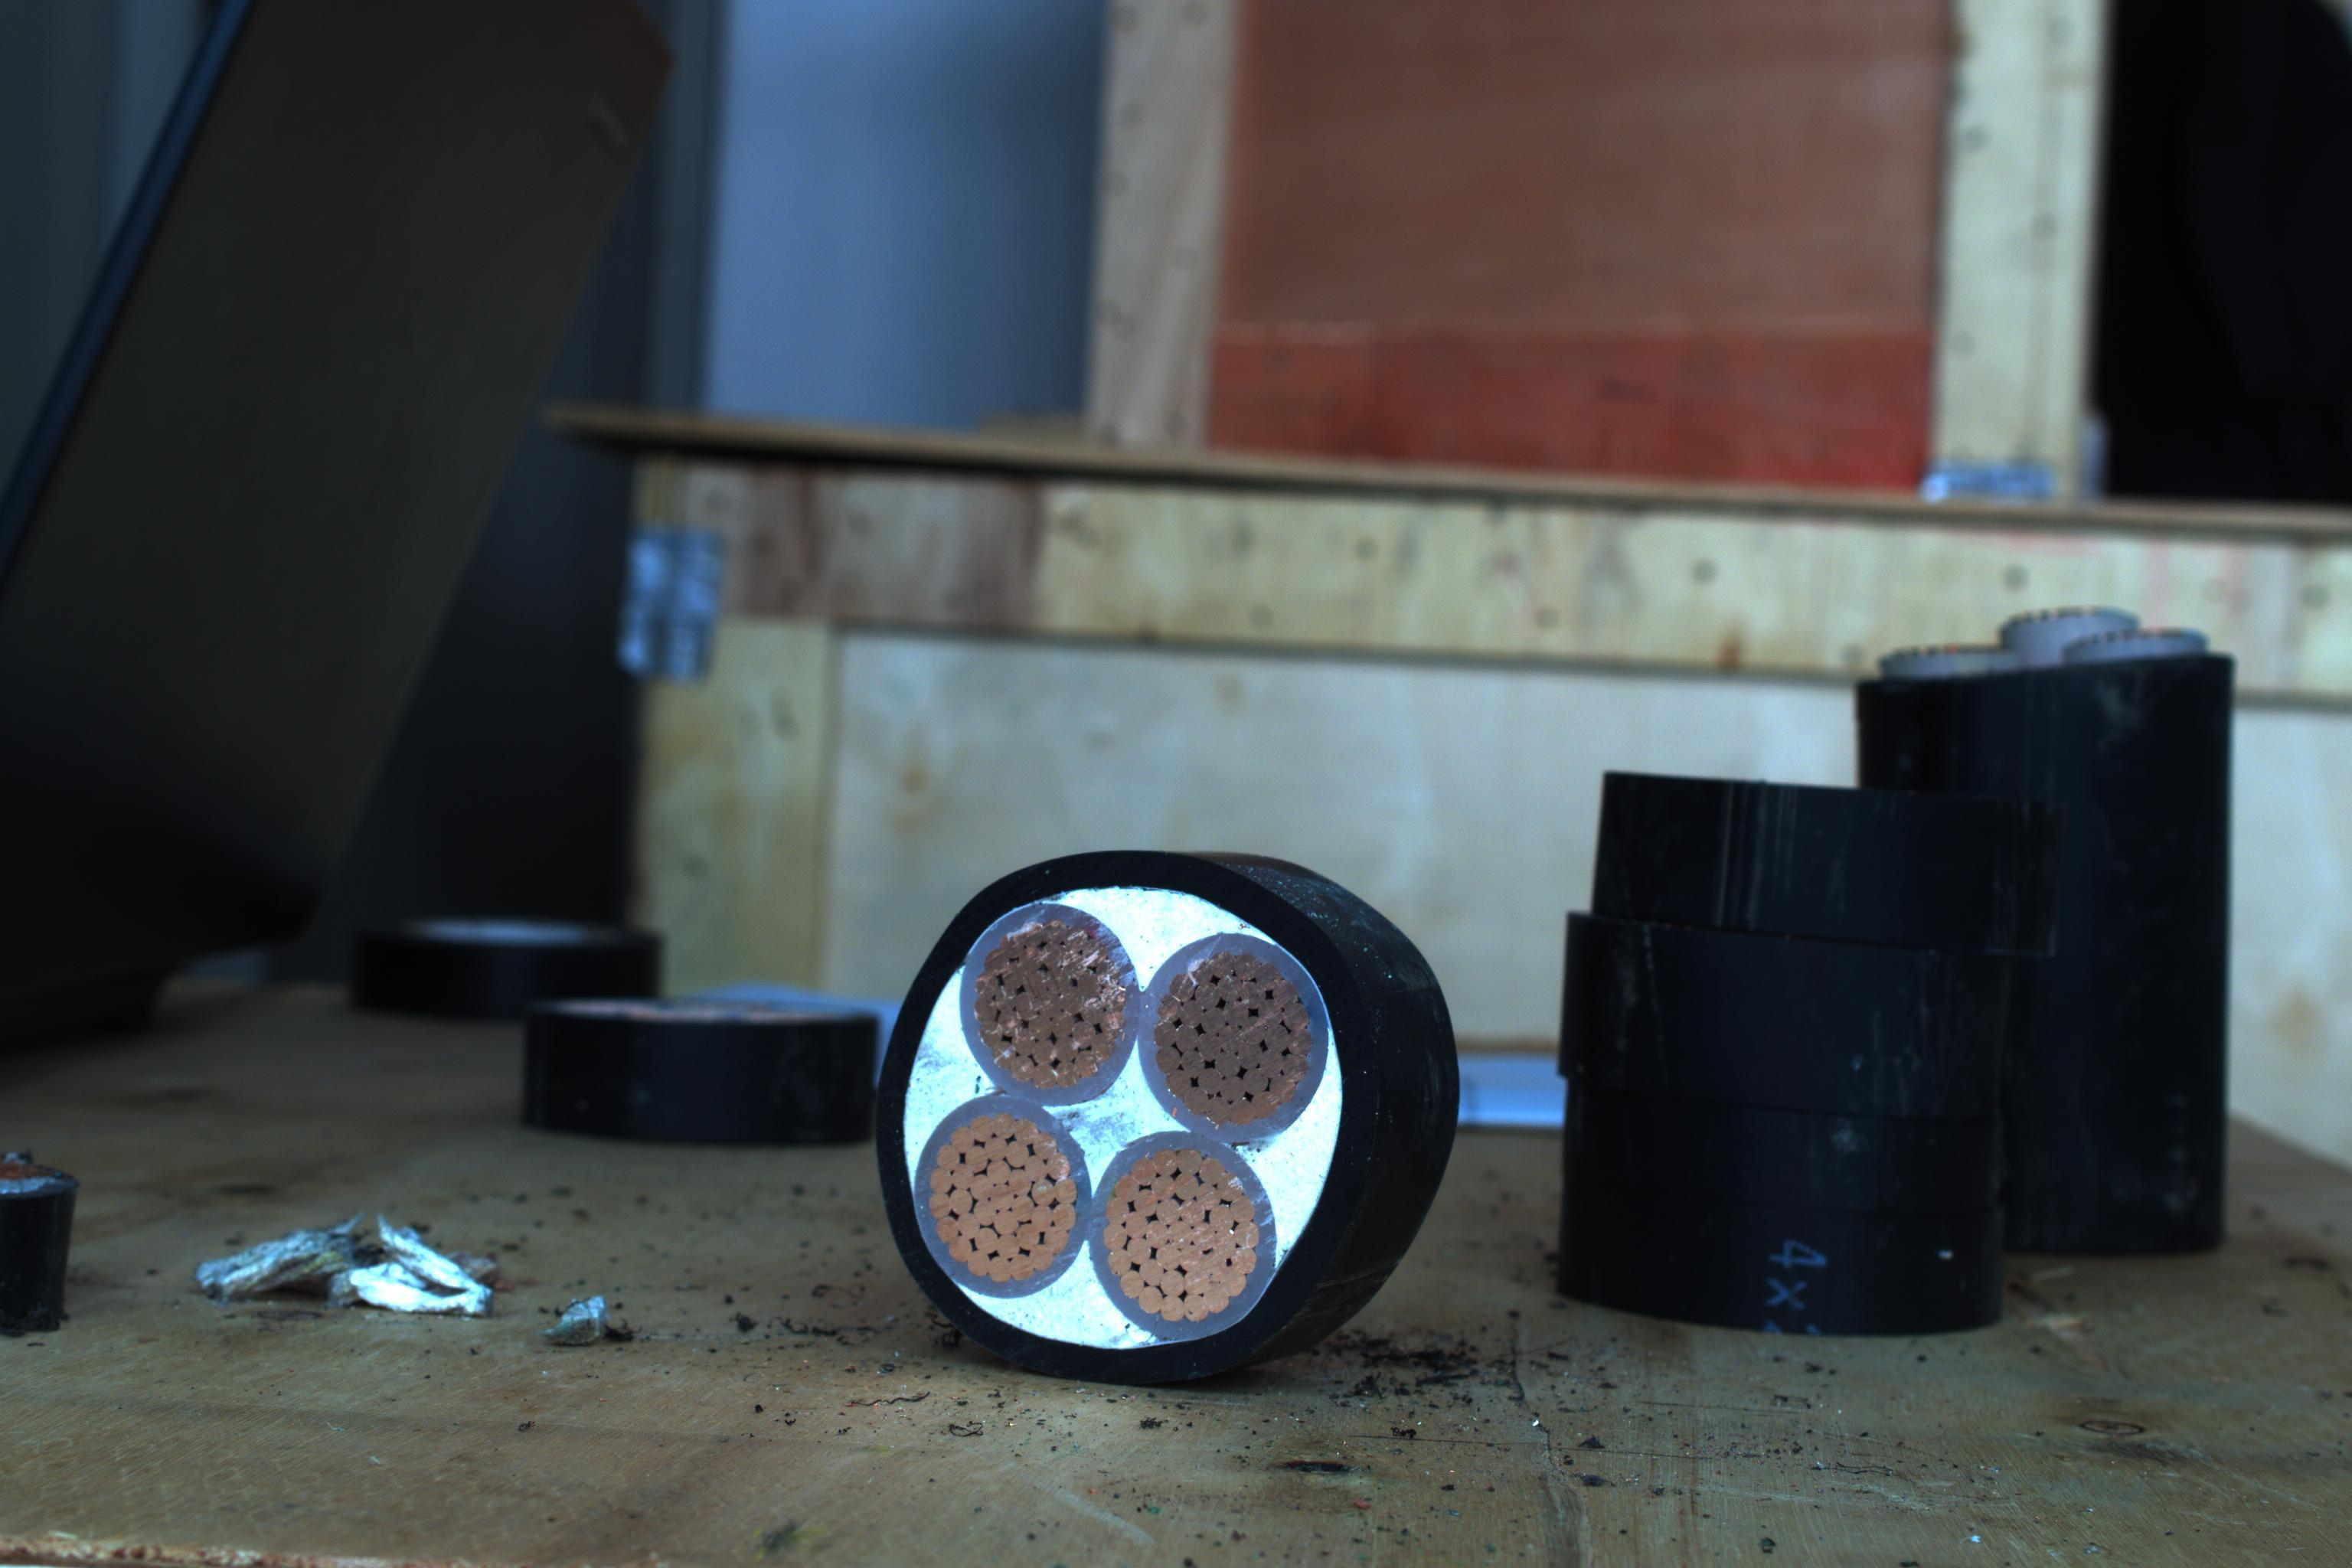YJV_0.6_1kV_4x240: (857, 845, 1375, 1368)
